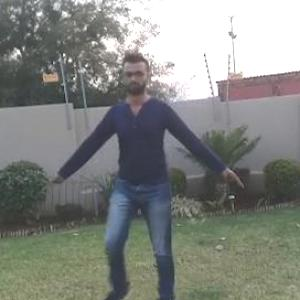land: (48, 53, 235, 299)
